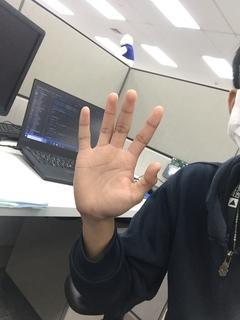hand: (73, 89, 164, 220)
